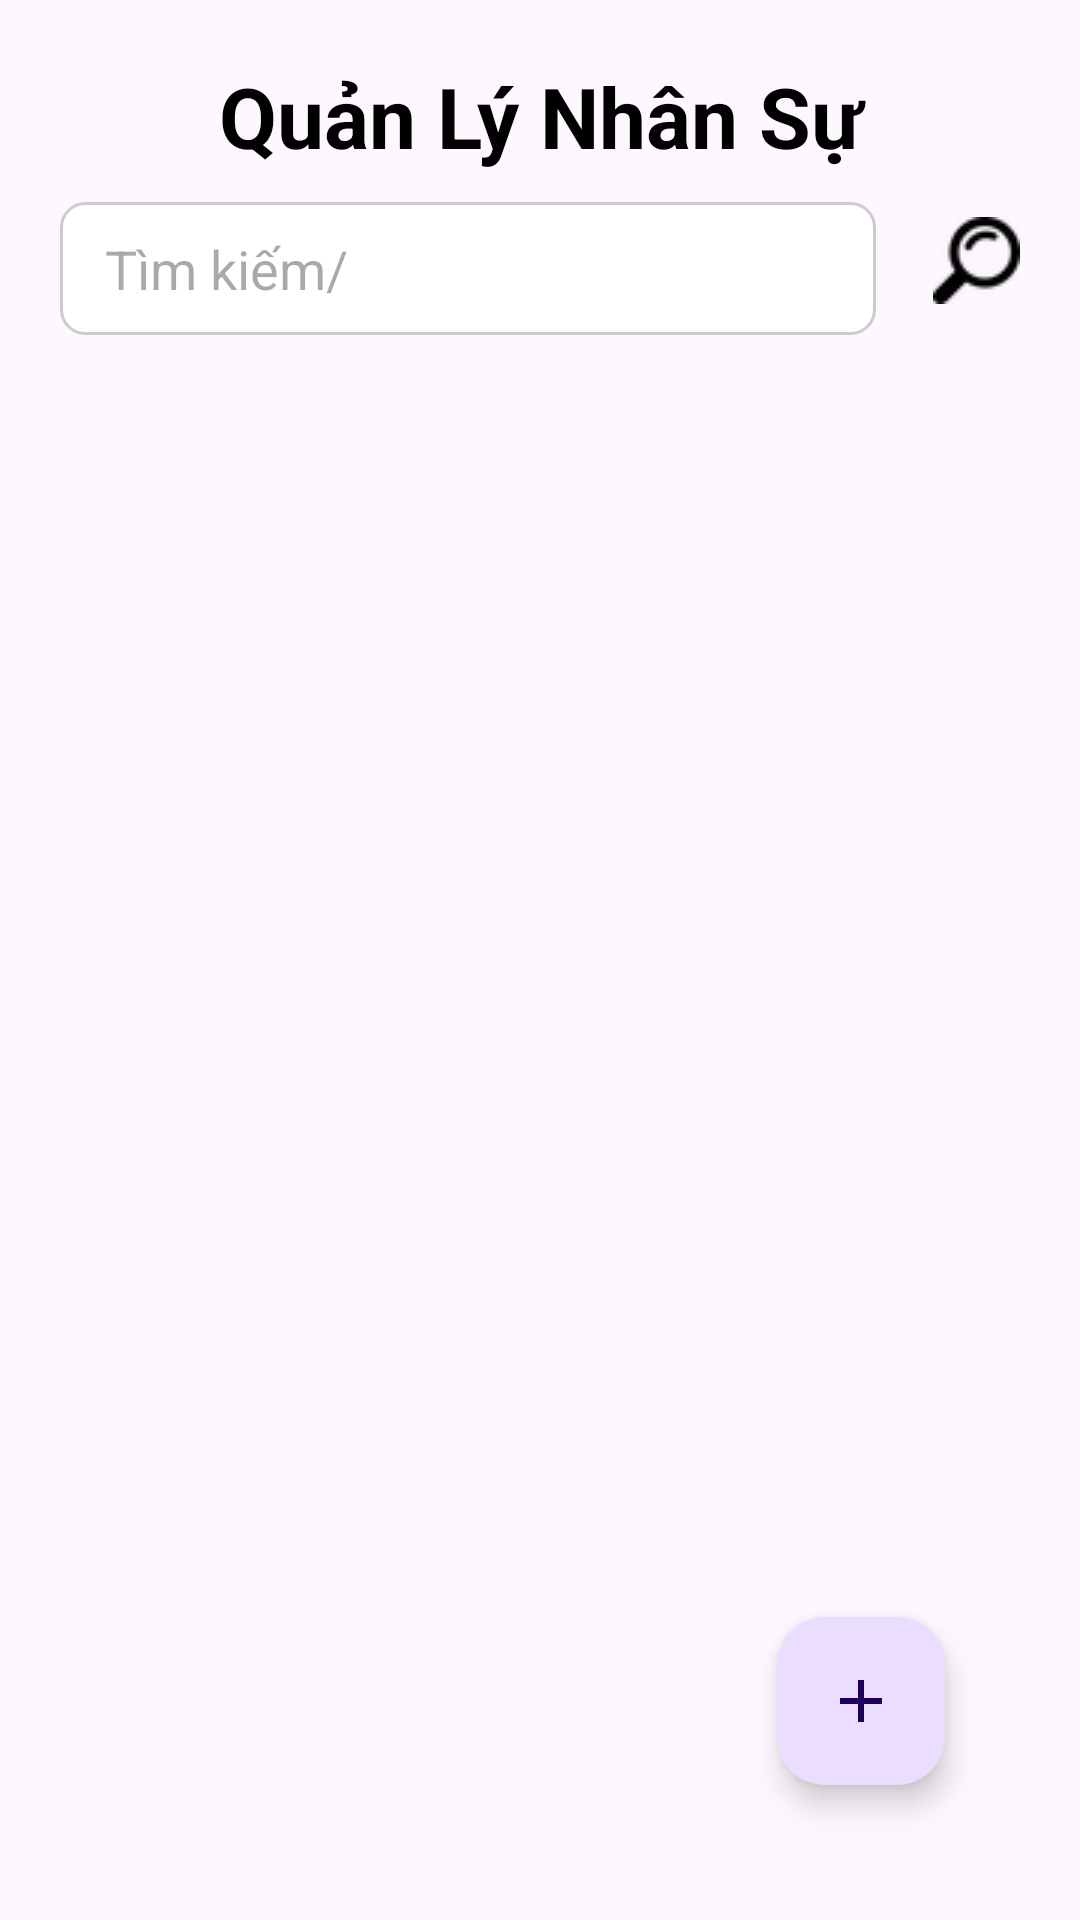

Named icons in this screenshot (1080×1920) and their centers, (x,y):
add: (861,1701)
magnifier: (976,260)
